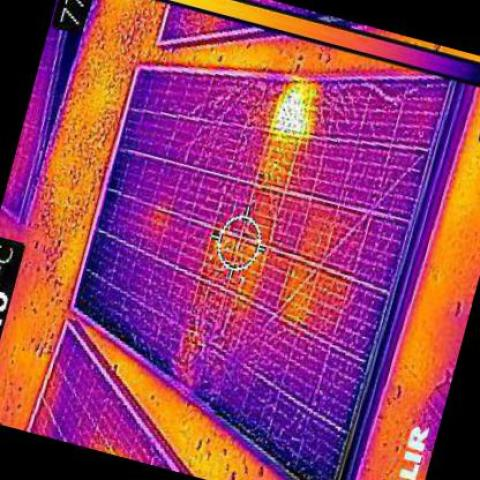fault: (276, 92, 312, 130)
